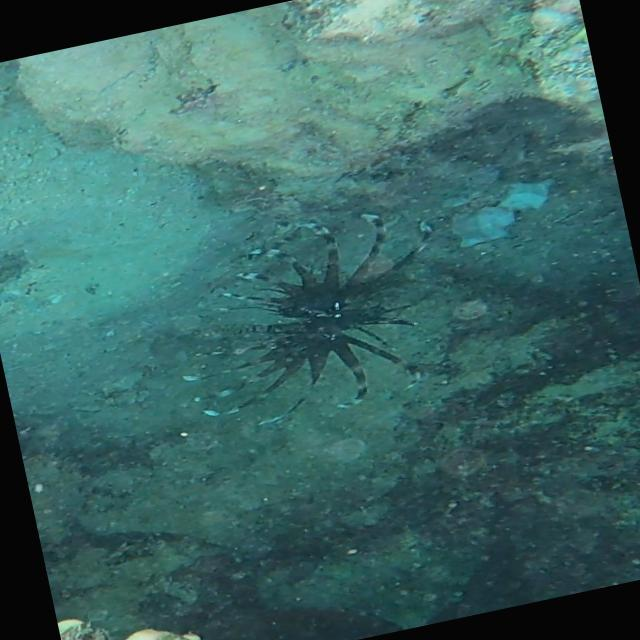Aslan Baligi: (154, 195, 456, 440)
